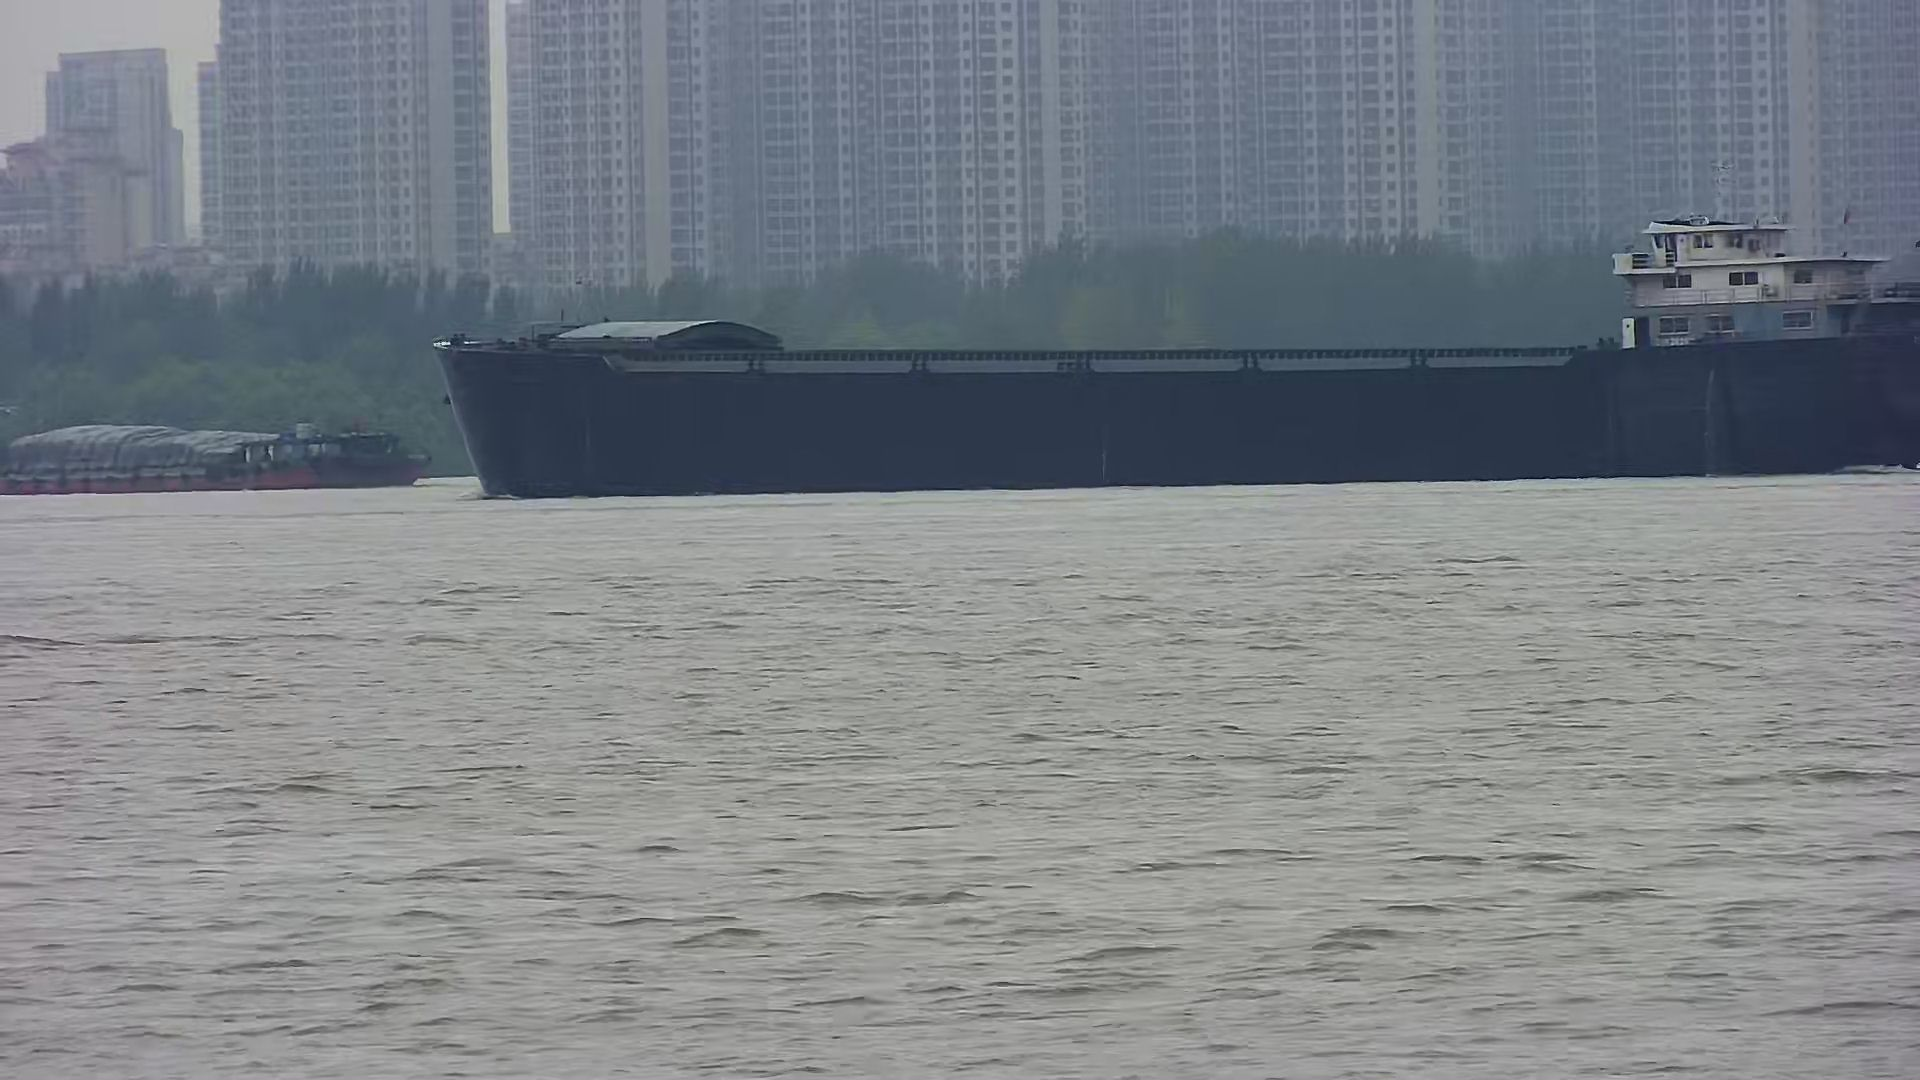ship: (433, 218, 1920, 501), (1, 413, 433, 495)
